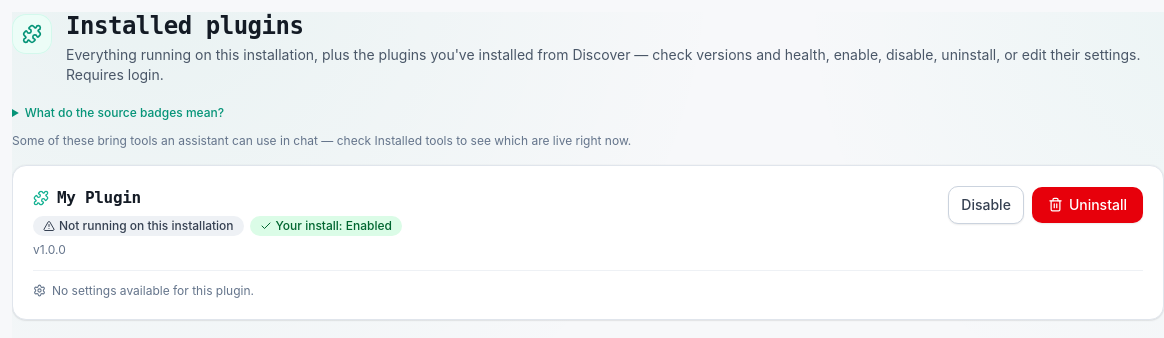
Test: InstalledPluginsPage › removes an uninstalled plugin from the list without a re-fetch
Expected: the heading "My Plugin" is shown, x1=33 y1=188 x2=141 y2=207
Step 1. Click the button "Uninstall" → (1087, 205), box x1=1032 y1=187 x2=1143 y2=223
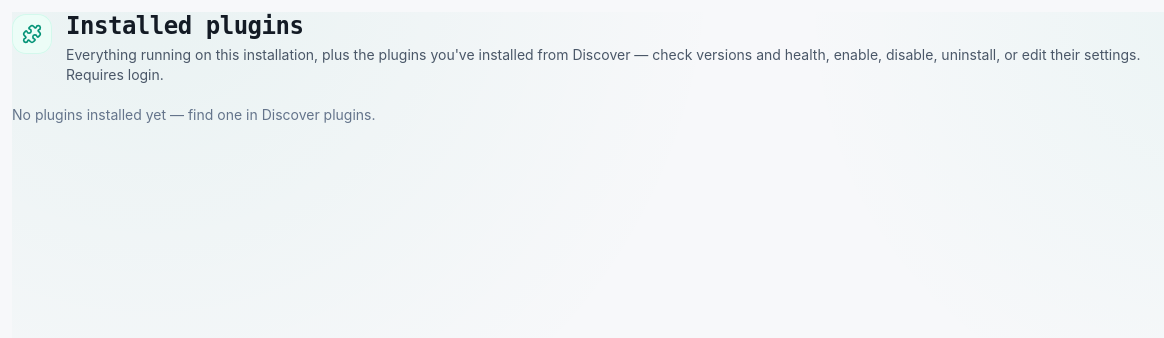
Expected: the heading "My Plugin" is gone
Expected: the link "find one in Discover plugins" is shown, x1=188 y1=106 x2=372 y2=123
